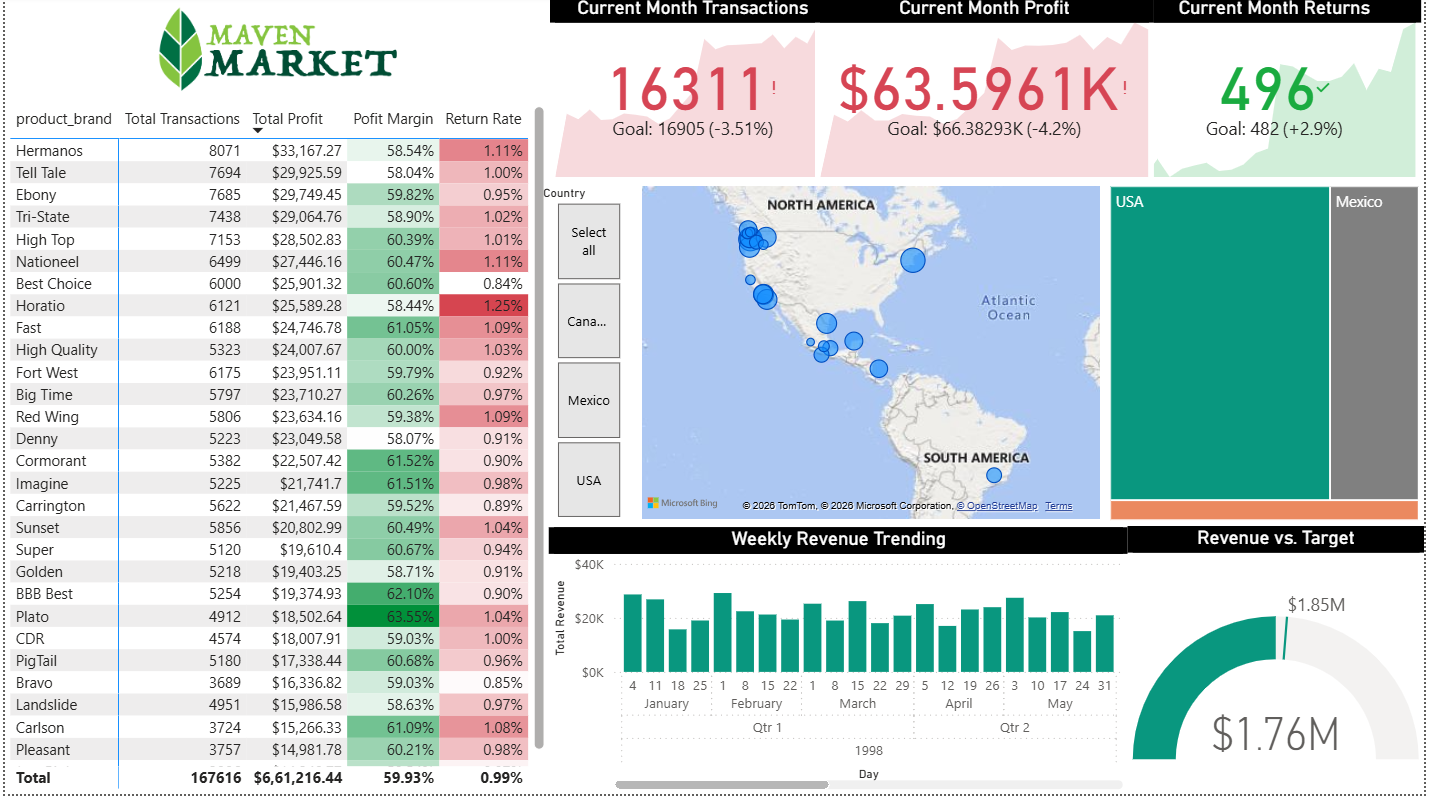

Layout of this report page (visuals, bound fields, positions):
{"tool":"powerbi","page":{"name":"Topline Performance ","canvas":[1280,720],"ordinal":0},"visuals":[{"type":"pivotTable","fields":{"Values":["Transaction Data.Total Tansactions","Transaction Data.Total Profit","Transaction Data.Pofit Margin","Return_Data.Return Rate"],"Rows":["Products.product_brand"]},"box":[0,95,491,625],"z":0},{"type":"kpi","title":"Current Month Transactions","fields":{"TrendLine":["Calendar.Start of Month"],"Goal":["Calendar.Last Month Transaction"],"Indicator":["Transaction Data.Total Transactions"]},"box":[491,0,257.8,168.5],"z":1000},{"type":"kpi","title":"Current Month Returns","fields":{"TrendLine":["Calendar.Start of Month"],"Goal":["Return_Data.Last Month Returns"],"Indicator":["Return_Data.Total Returns"]},"box":[1012.3,0,265,168.5],"z":2000},{"type":"kpi","title":"Current Month Profit","fields":{"TrendLine":["Calendar.Start of Month"],"Indicator":["Transaction Data.Total Profit"],"Goal":["Transaction Data.Last Month Profit"]},"box":[730,0,305.7,168.6],"z":3000},{"type":"map","fields":{"Size":["Transaction Data.Total Transactions"],"Category":["Stores.City"]},"box":[568.8,167,423.4,309.6],"z":4000},{"type":"slicer","fields":{"Values":["Stores.Country"]},"box":[472.3,165.6,106.6,311],"z":5000},{"type":"treemap","fields":{"Values":["Transaction Data.Total Transactions"],"Group":["Stores.Country","Stores.State","Stores.City"]},"box":[992.2,167,288,311],"z":6000},{"type":"columnChart","title":"Weekly Revenue Trending","fields":{"Y":["Transaction Data.Total Revenue"],"Category":["Calendar.Start of Week.Variation.Date Hierarchy.Year","Calendar.Start of Week.Variation.Date Hierarchy.Quarter","Calendar.Start of Week.Variation.Date Hierarchy.Month","Calendar.Start of Week.Variation.Date Hierarchy.Day"]},"box":[490,478.6,522.9,241.4],"z":7000},{"type":"gauge","title":"Revenue vs. Target","fields":{"Y":["Transaction Data.Total Revenue"],"TargetValue":["Transaction Data.Revenue Target"]},"box":[1012.3,478.1,267.8,241.9],"z":8000},{"type":"image","box":[0,0,430.2,95.3],"z":9000},{"type":"textbox","box":[0,0,490.1,94.5],"z":10000},{"type":"image","box":[0,0,490.1,95.8],"z":10001}]}

Visuals, with their boxes in screenshot pixels (x1, y1, x2, y2), scaled from the page's 1280x720 canvas onto the 1429x797 screenshot:
pivotTable - Transaction Data.Total Tansactions x Transaction Data.Total Profit: box=[0, 105, 548, 796]
"Current Month Transactions" kpi: box=[548, 0, 836, 187]
"Current Month Returns" kpi: box=[1130, 0, 1426, 187]
"Current Month Profit" kpi: box=[815, 0, 1156, 187]
map - Transaction Data.Total Transactions x Stores.City: box=[635, 185, 1108, 528]
slicer - Stores.Country: box=[527, 183, 646, 528]
treemap - Transaction Data.Total Transactions x Stores.Country: box=[1108, 185, 1428, 529]
"Weekly Revenue Trending" columnChart: box=[547, 530, 1131, 796]
"Revenue vs. Target" gauge: box=[1130, 529, 1428, 796]
image: box=[0, 0, 480, 105]
textbox: box=[0, 0, 547, 105]
image: box=[0, 0, 547, 106]
